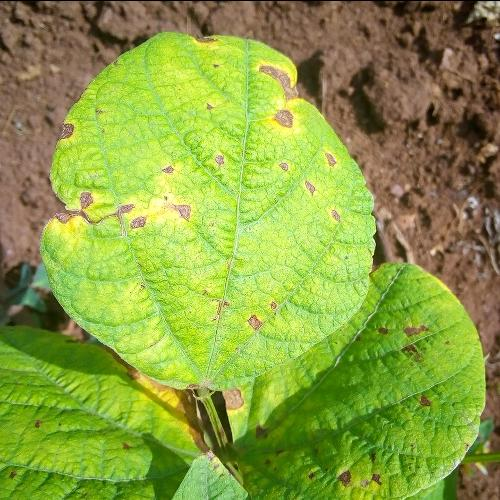hawar: (37, 30, 379, 385)
mozaik: (42, 181, 88, 236)
